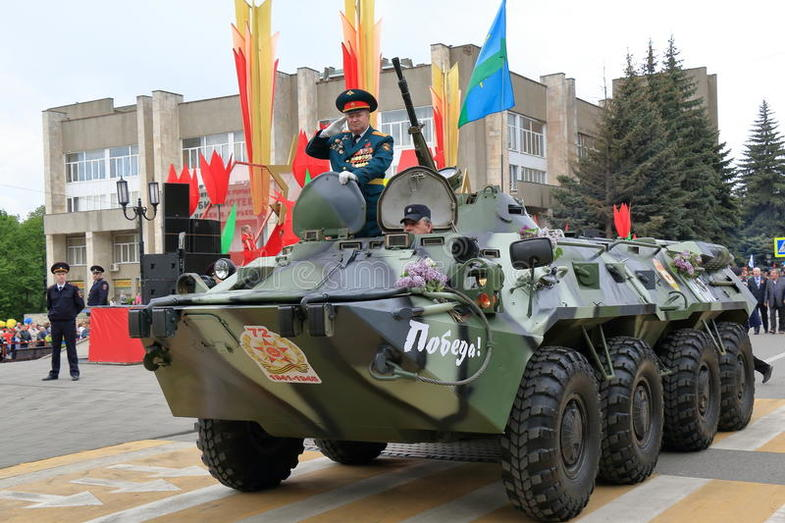btr: (139, 184, 755, 501)
